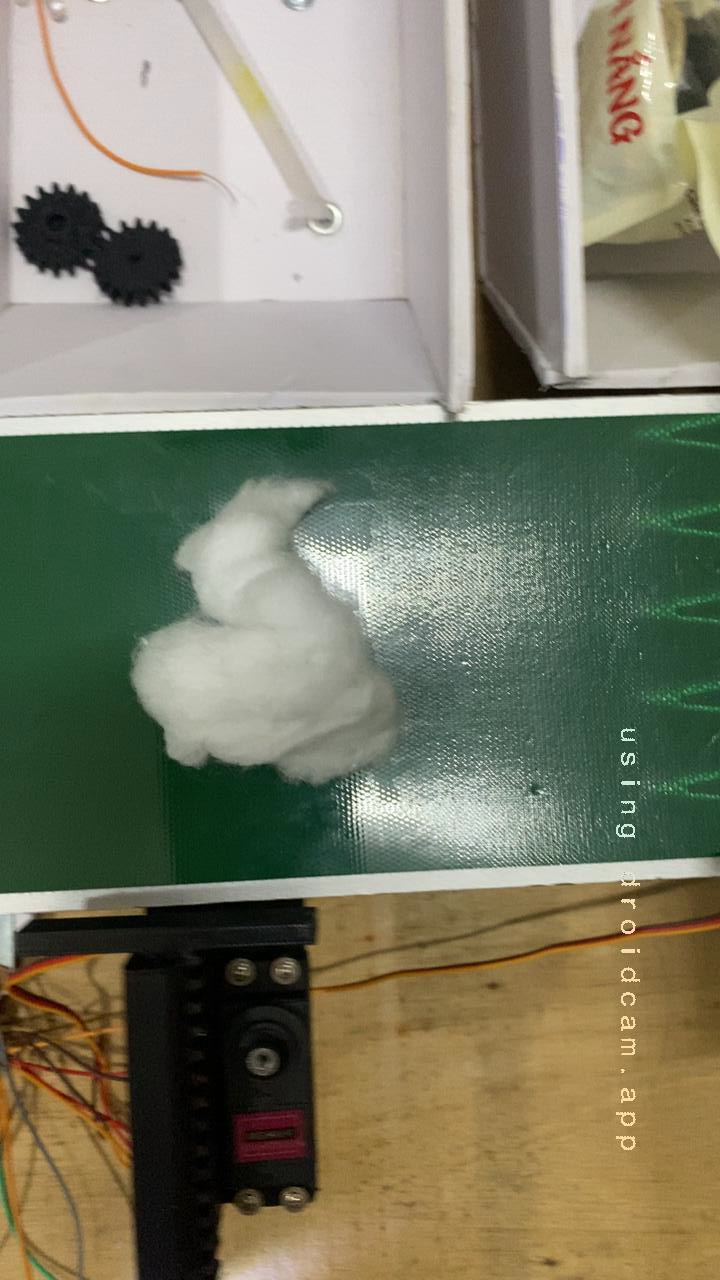cotton: (99, 449, 426, 806)
